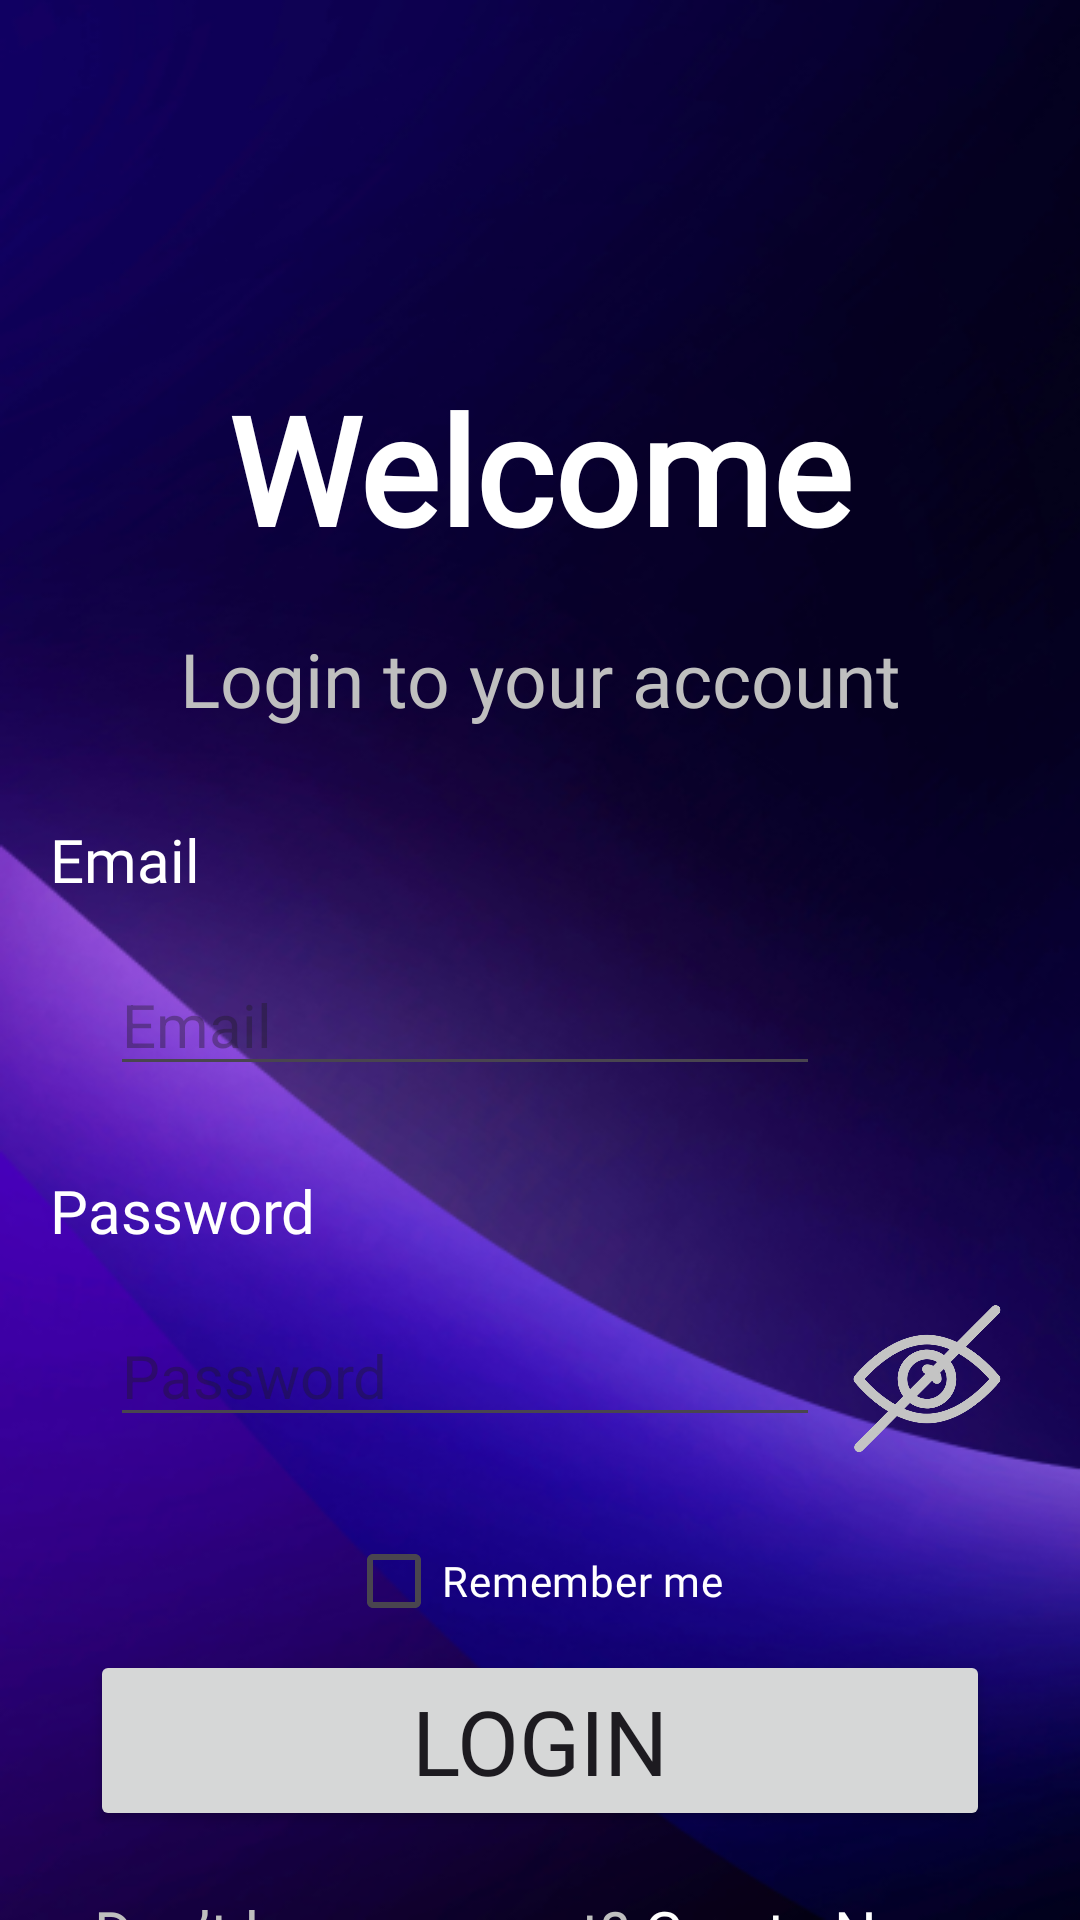

Point at icon controls on the screen. Image size 1080w x 1920h, points as (x,y).
Image d'oeil pour mot de passe: (926,1379)
